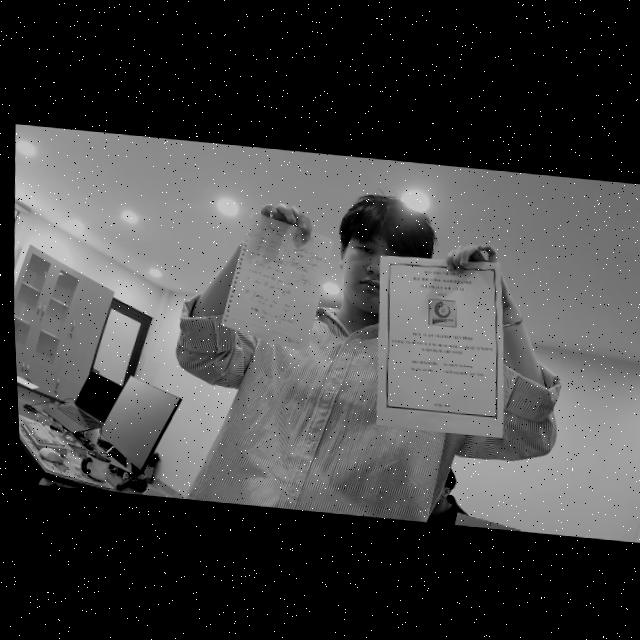document: (377, 255, 503, 439), (221, 212, 334, 353)
face: (340, 194, 384, 317)
